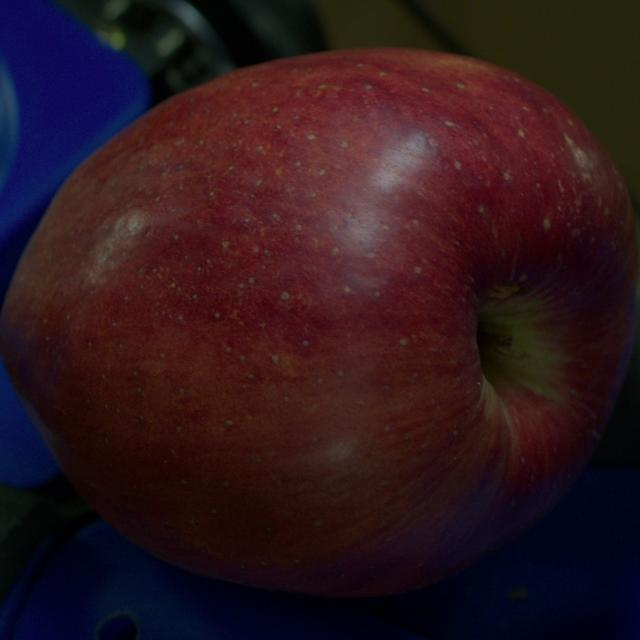apple: (0, 49, 639, 596)
